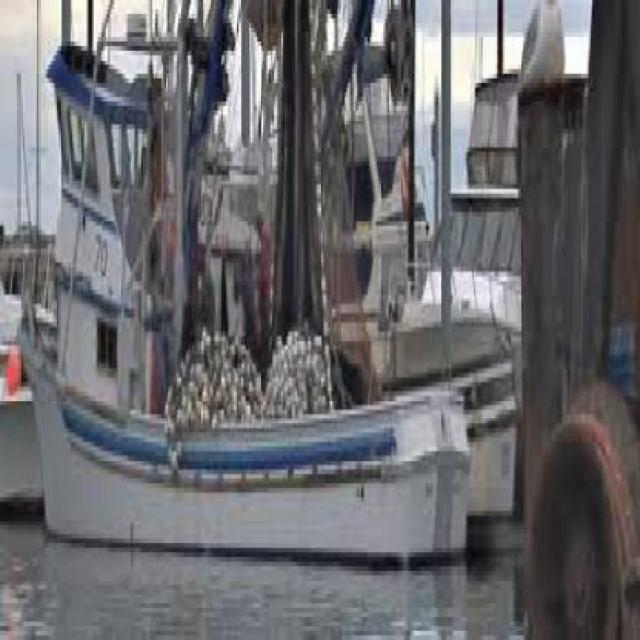fish-b: (18, 10, 486, 586)
